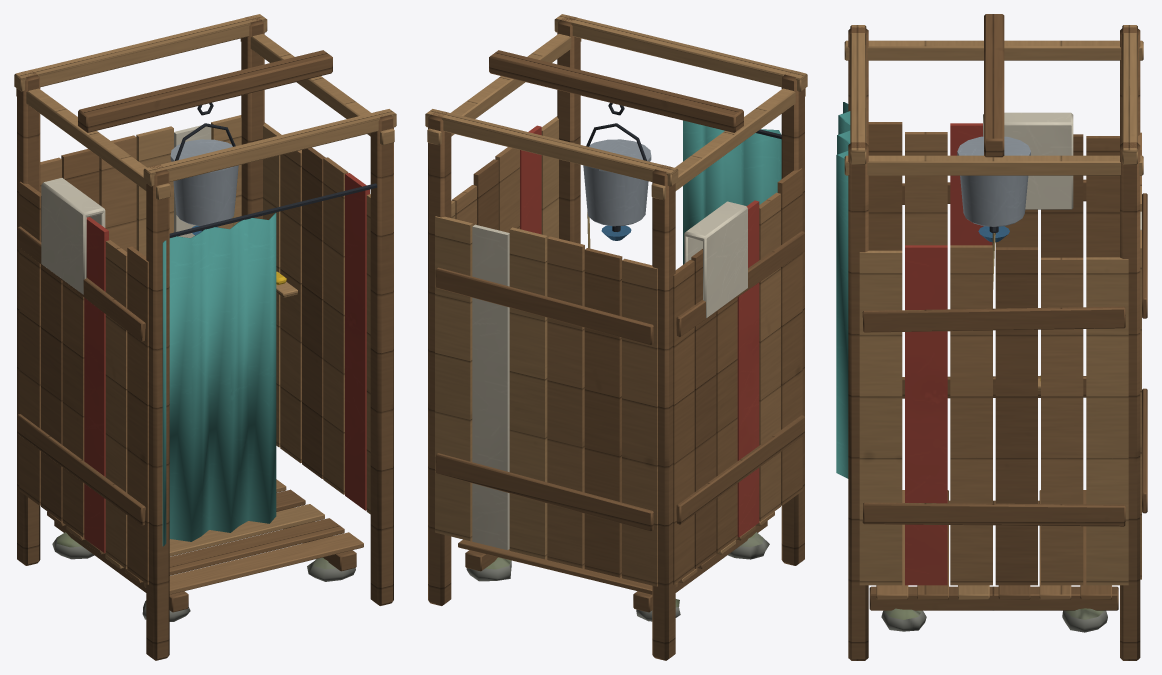
Rendered from outdoor_shower.glb.
3 renders of one model, left to right at view 1: azimuth 30°, elevation 25°; view 2: azimuth 150°, elevation 25°; view 3: azimuth 270°, elevation 25°, orthographic. The views are drawn at different scales.
Visible parts, largest first — view 1: outdoor_shower; view 2: outdoor_shower; view 3: outdoor_shower.
Boxes of the visible parts, x1,y1,x2,y2 form: outdoor_shower: (14,14,396,660); outdoor_shower: (425,14,807,660); outdoor_shower: (836,14,1147,660).
Bounding box in the file's own units: 1.36 × 2.56 × 1.37.
Materials: 15 (15 with a texture image).
